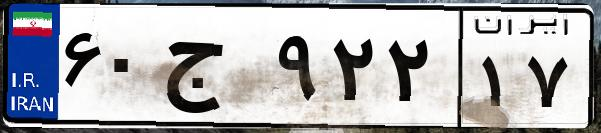0: (110, 28, 158, 98)
1: (475, 38, 525, 113)
2: (385, 28, 445, 110), (330, 28, 385, 110)
6: (57, 26, 110, 100)
7: (525, 38, 570, 115)
9: (270, 28, 330, 110)
ج: (158, 20, 270, 120)
